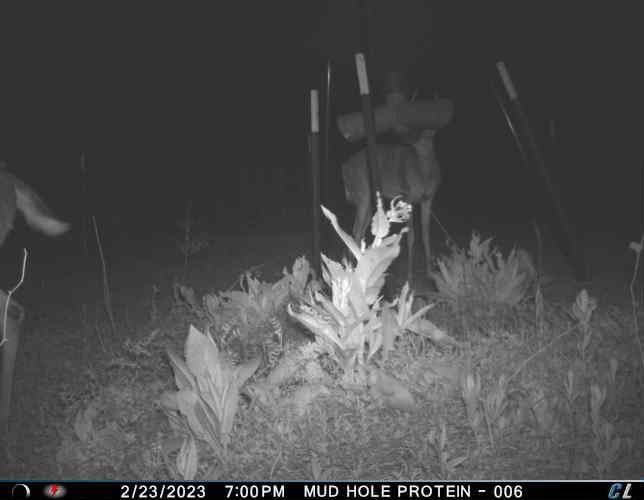Deer: (336, 86, 447, 286), (0, 156, 75, 434)
